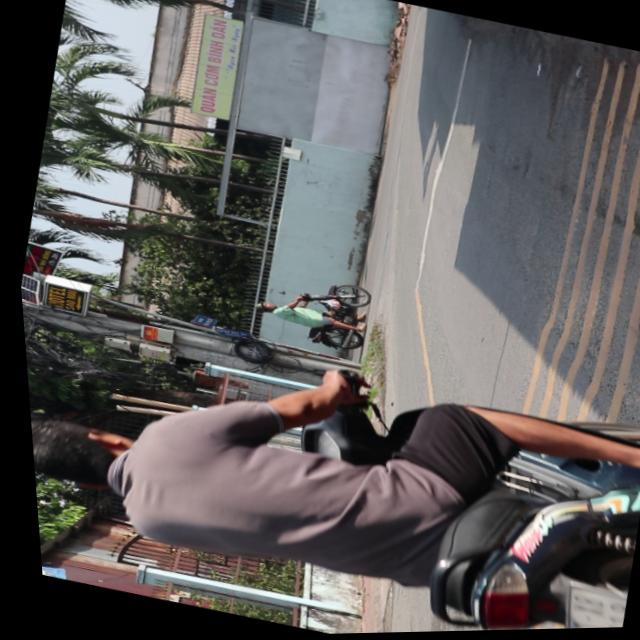licenseplate: (17, 283, 640, 640)
motorcyclist: (24, 407, 131, 502)
nohelmet: (544, 582, 620, 631)
